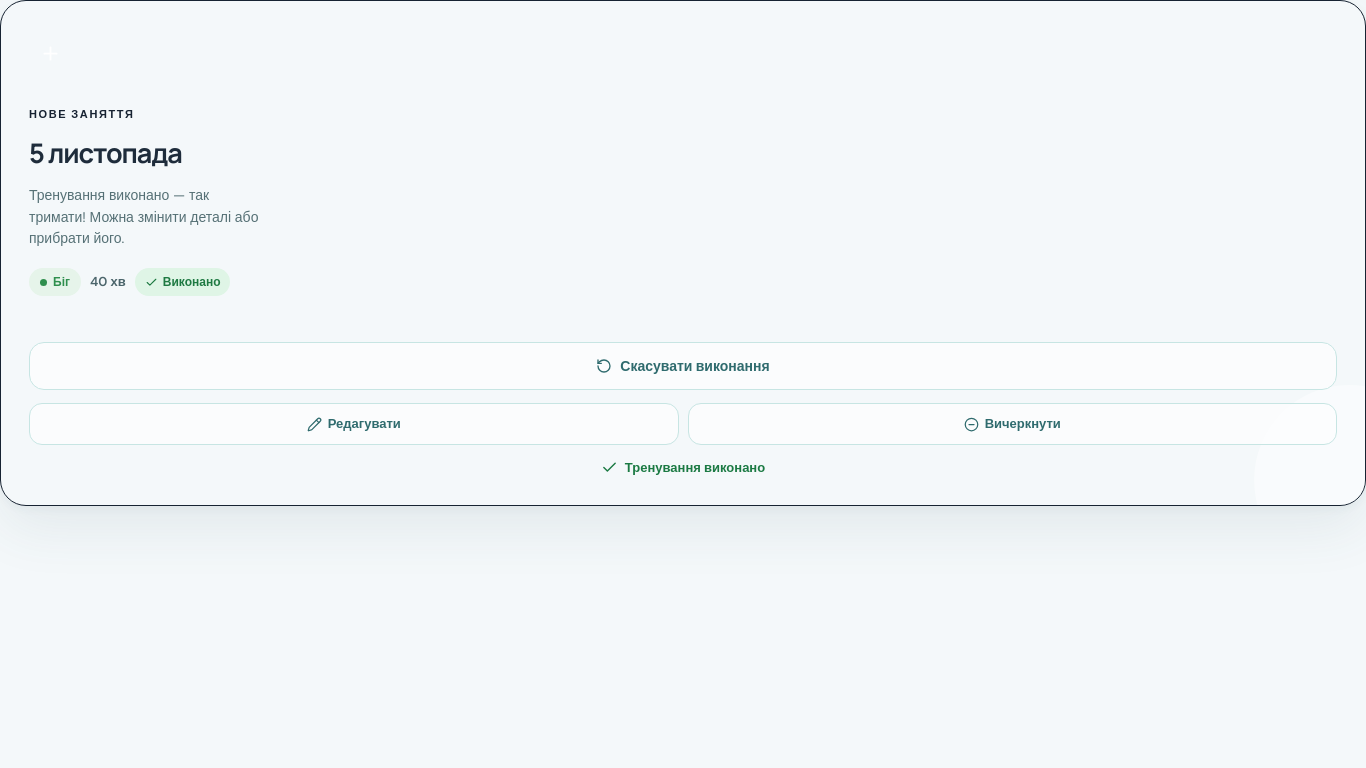
Scenario: ActionCard › ховає старе сповіщення під час редагування
Click the button "Редагувати" at (354, 424), box [29,403,678,445]
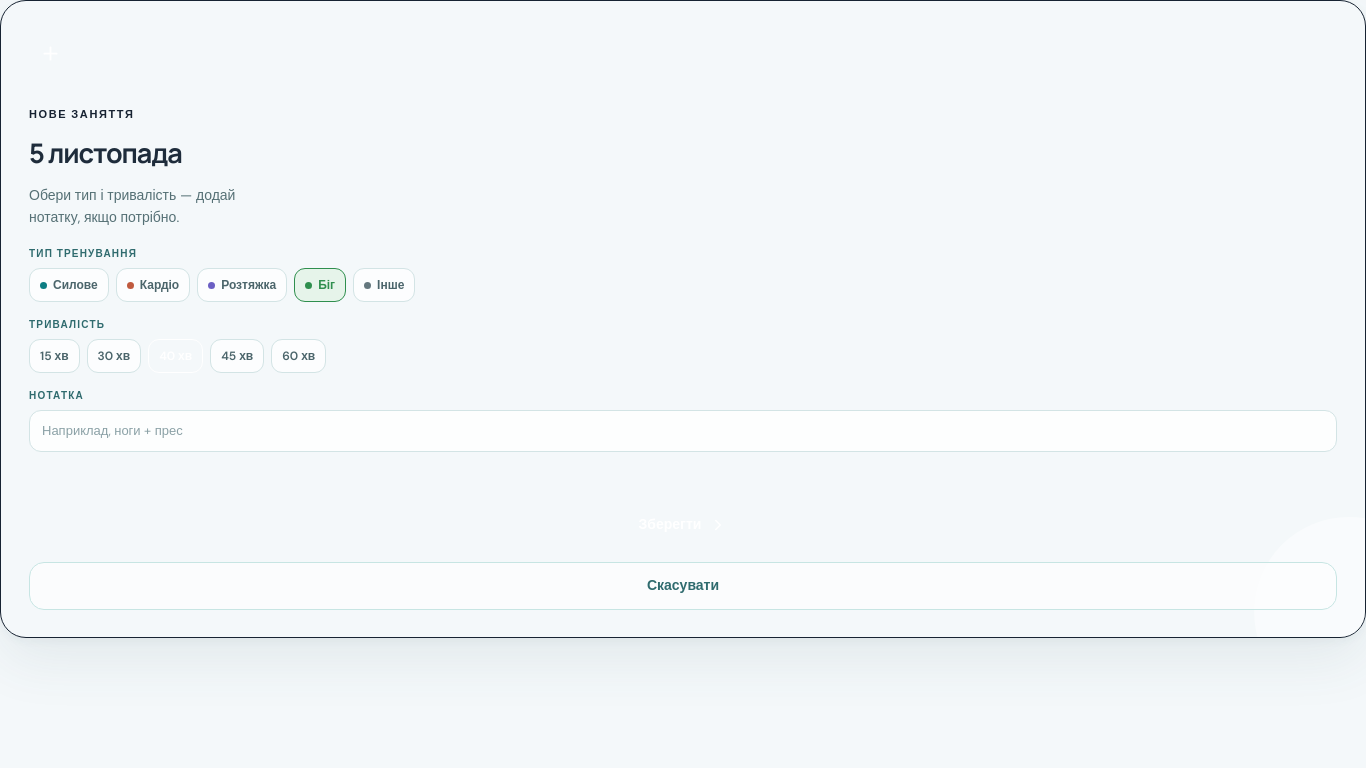
Expected: the text "Тренування виконано" is gone
